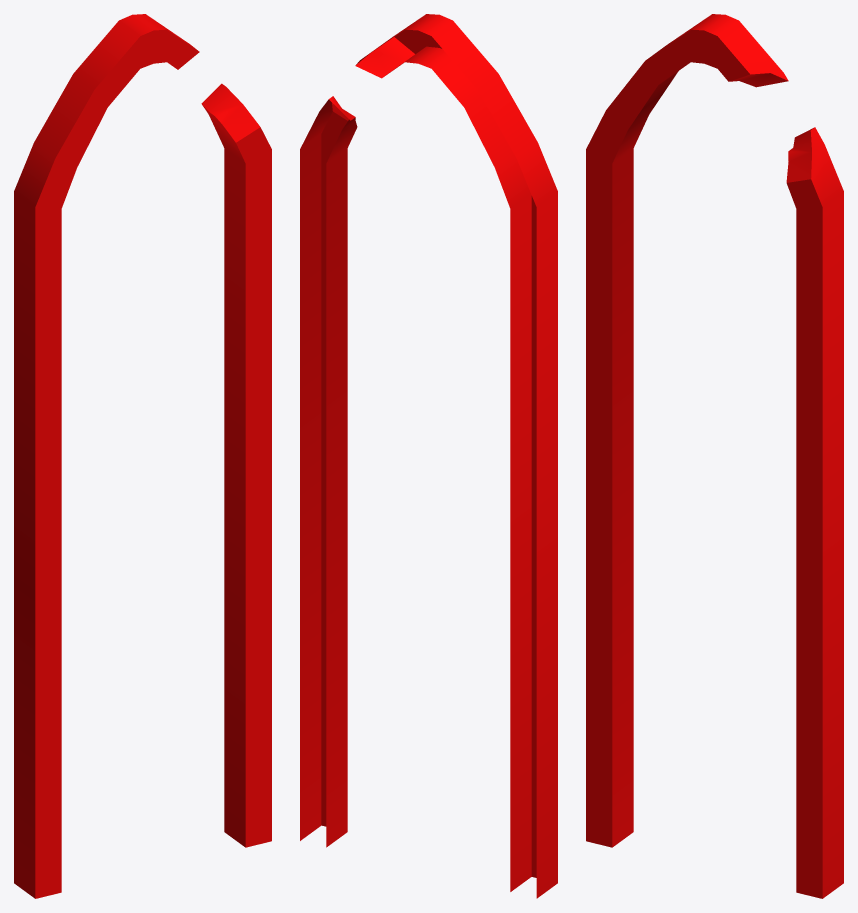
File: part_3_props_mesh_09.fbx
3 views of the same model, side by side, from view 1: azimuth 30°, elevation 25°; view 2: azimuth 150°, elevation 25°; view 3: azimuth 330°, elevation 25° (orthographic).
Parts seen in each view (by area): view 1: part_3_bake_mesh_07; view 2: part_3_bake_mesh_07; view 3: part_3_bake_mesh_07.
Boxes of the visible parts, x1=… form: part_3_bake_mesh_07: x1=14, y1=14, x2=271, y2=898; part_3_bake_mesh_07: x1=300, y1=14, x2=557, y2=898; part_3_bake_mesh_07: x1=586, y1=14, x2=843, y2=898.
Size of the model in its own units: 2.94 by 9.97 by 0.4619.
